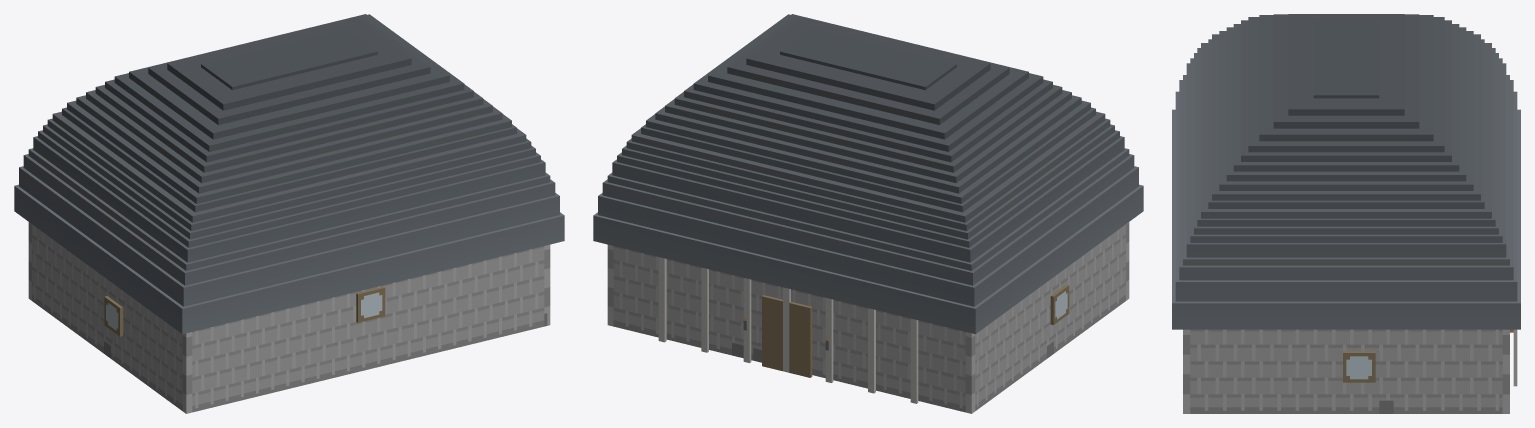
The model's file is banos_comunales_01.glb.
3 views of the same model, side by side, from view 1: azimuth 30°, elevation 25°; view 2: azimuth 150°, elevation 25°; view 3: azimuth 270°, elevation 25° (orthographic). The views are drawn at different scales.
Visible parts, largest first — view 1: banos_comunales_01; view 2: banos_comunales_01; view 3: banos_comunales_01.
Part boxes in pixels (x1,y1,x2,y2): banos_comunales_01: [14, 14, 564, 413]; banos_comunales_01: [593, 14, 1143, 413]; banos_comunales_01: [1172, 14, 1520, 413].
Bounding box in the file's own units: 12.6 × 8 × 9.6.
